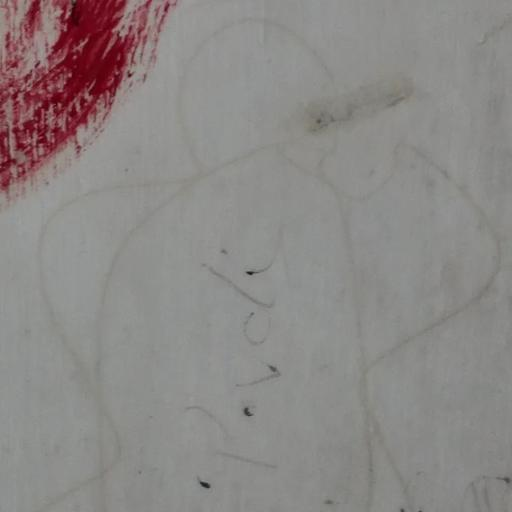stain: (159, 202, 330, 512), (0, 0, 204, 199), (292, 29, 429, 190)
